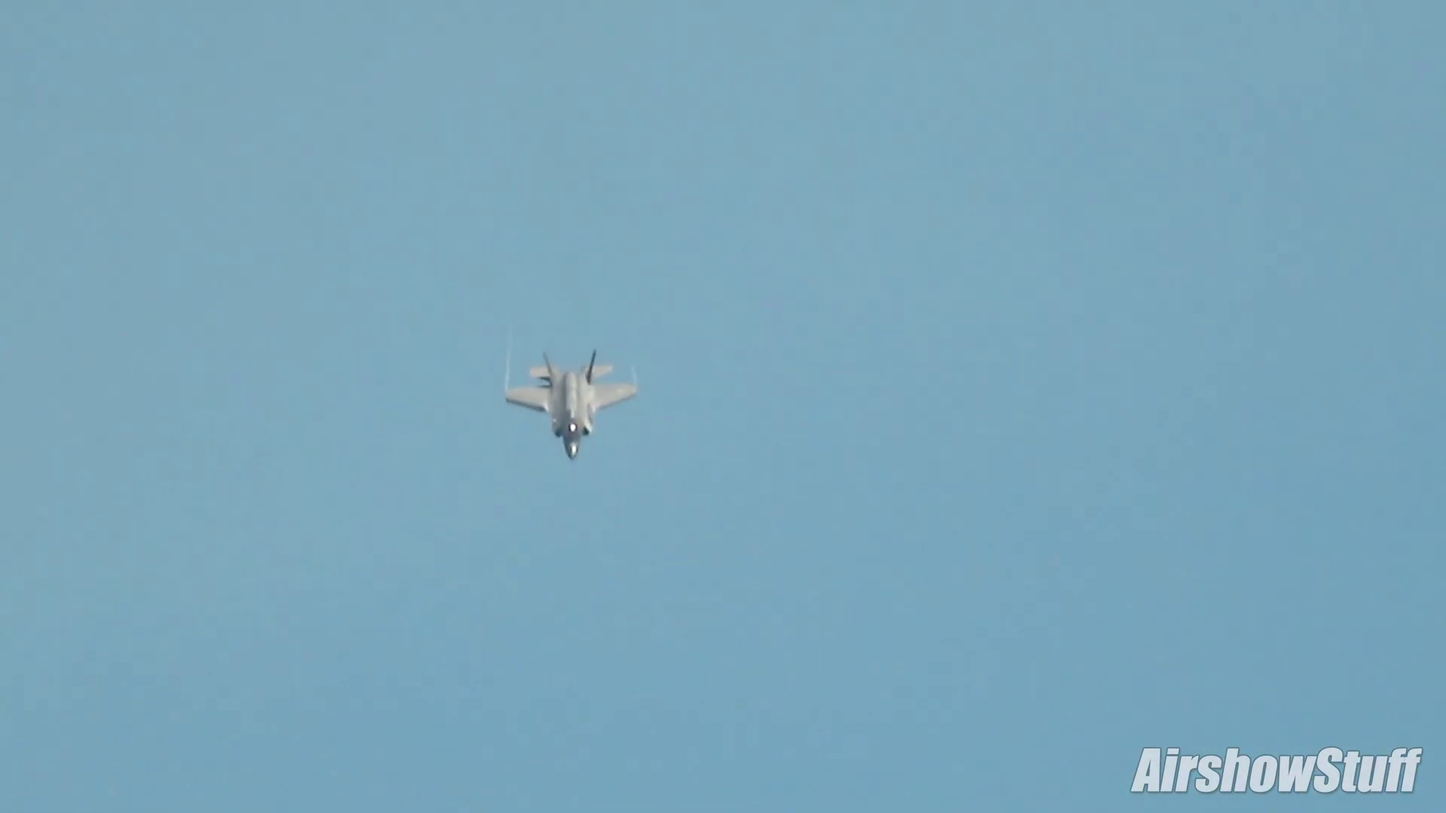F35: (502, 344, 641, 469)
